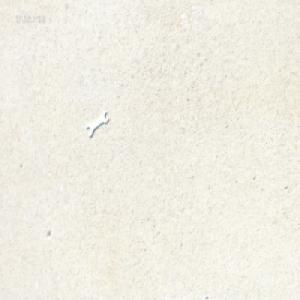Wrench: (86, 110, 108, 138)
